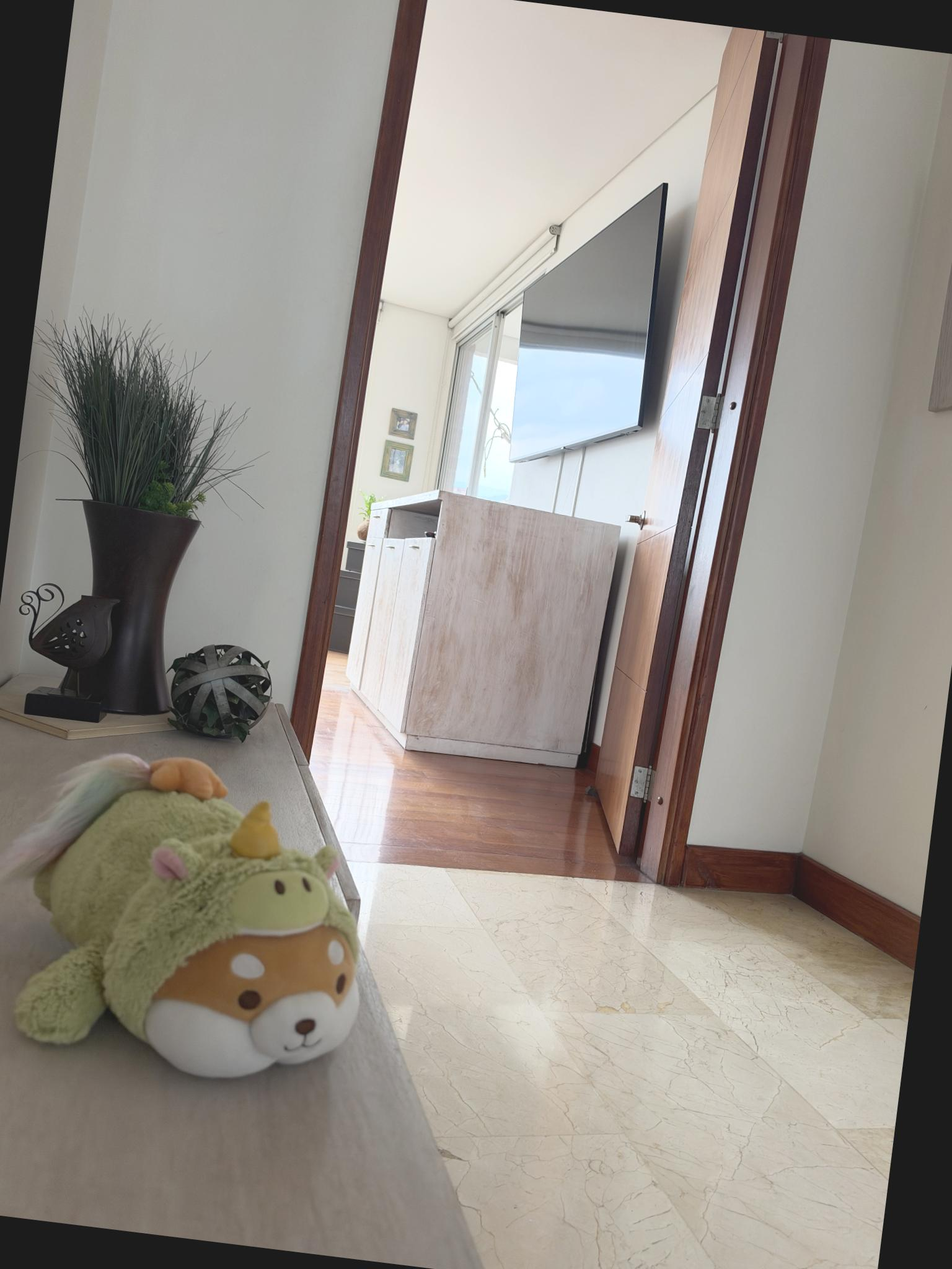peluche_martin: (0, 729, 393, 1099)
